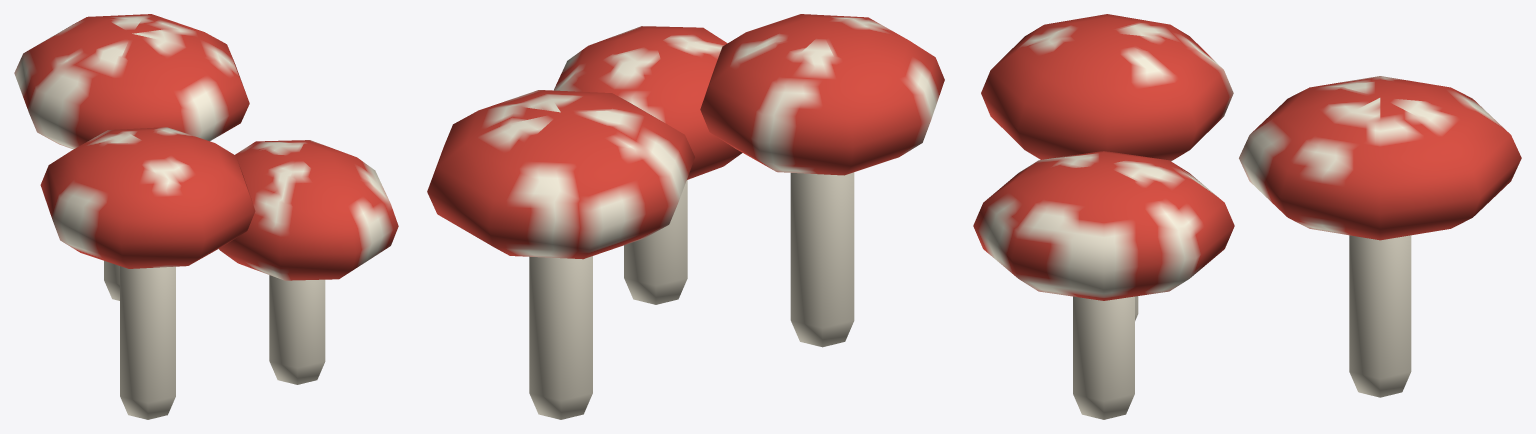
File: prop_shroom4_7593.glb
3 views of the same model, side by side, from view 1: azimuth 30°, elevation 25°; view 2: azimuth 150°, elevation 25°; view 3: azimuth 270°, elevation 25° (orthographic). The views are drawn at different scales.
Visible parts, largest first — view 1: prop_shroom4_7593; view 2: prop_shroom4_7593; view 3: prop_shroom4_7593.
Part boxes in pixels (x1,y1,x2,y2): prop_shroom4_7593: (14, 14, 398, 419); prop_shroom4_7593: (427, 14, 944, 419); prop_shroom4_7593: (973, 14, 1521, 419).
Bounding box in the file's own units: 0.3611 × 0.2902 × 0.4718.
1 material, 1 textured.
